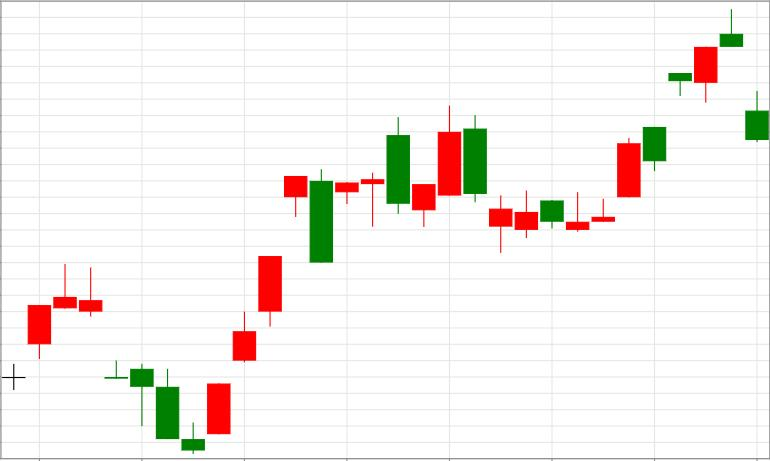bearish_engulfing_fall: (207, 169, 333, 434)
morning_star_rise: (53, 264, 231, 455)
